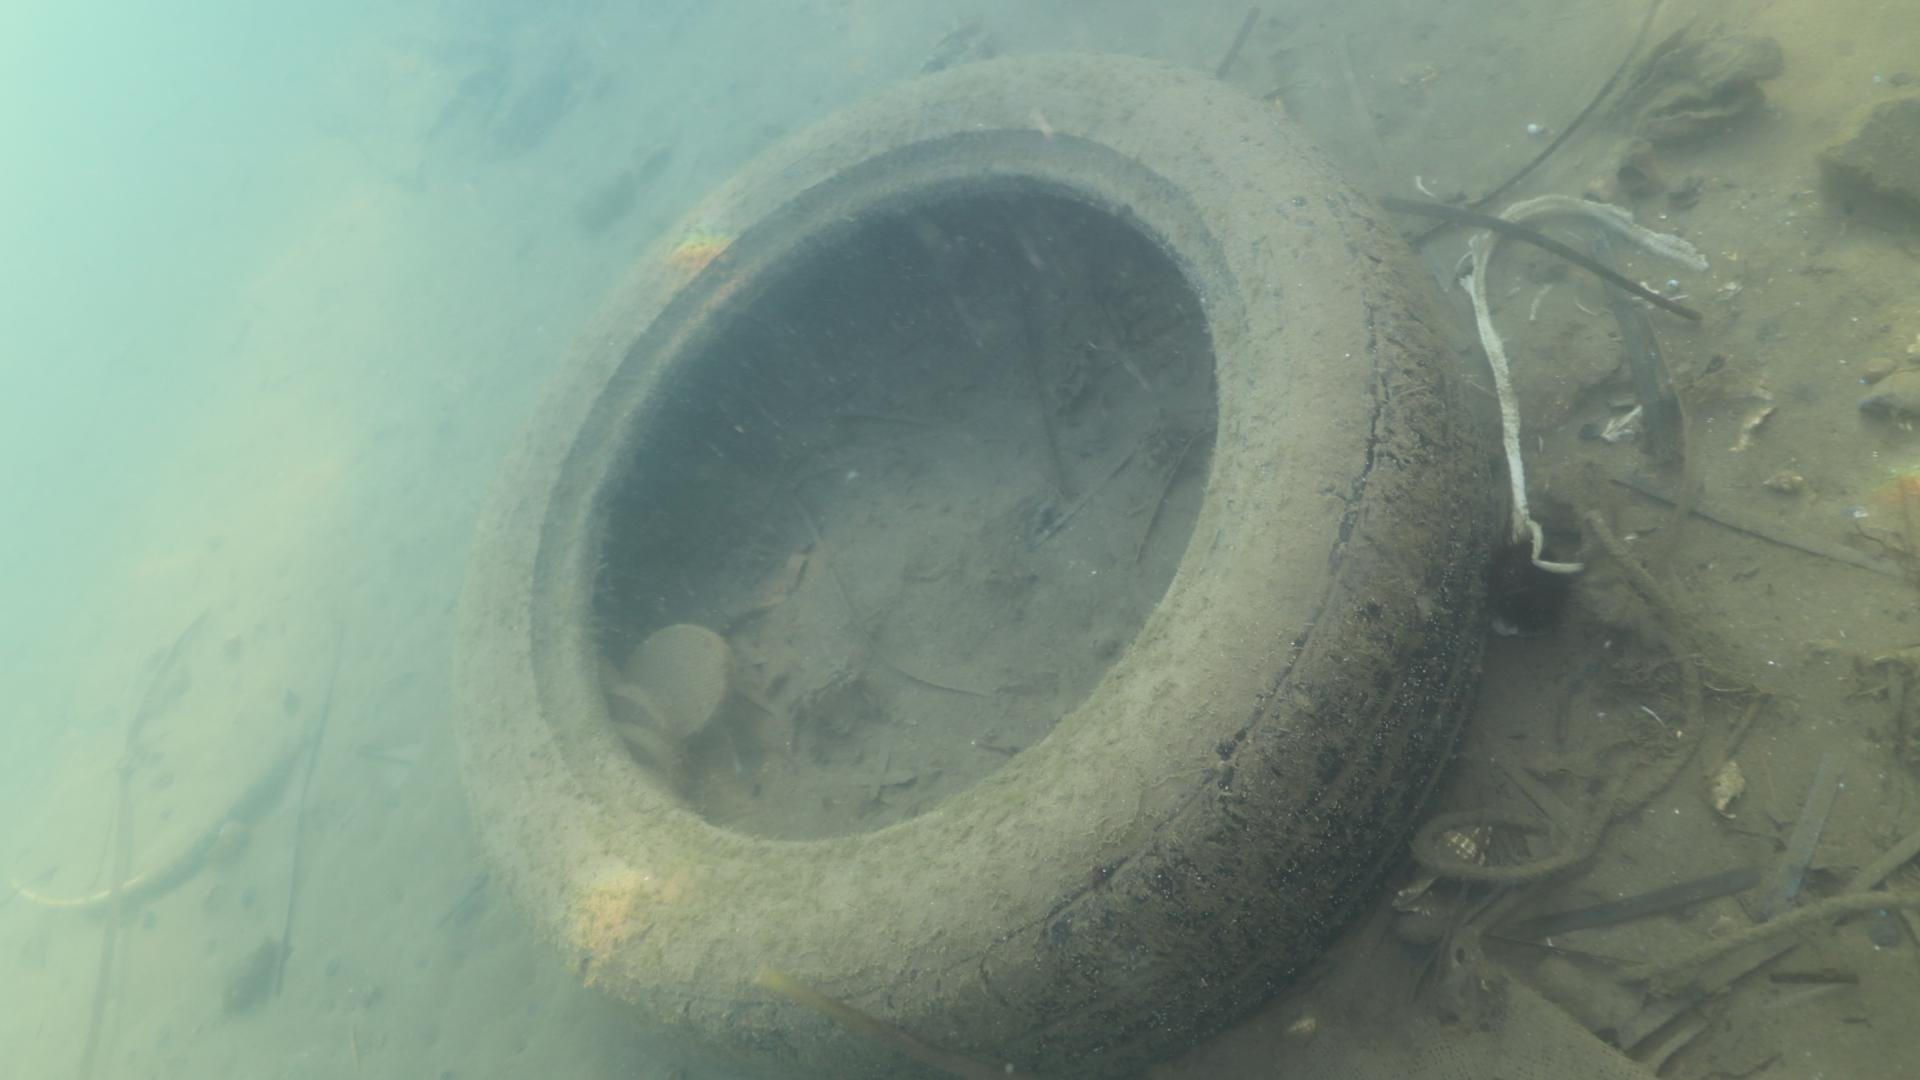bundle of ropes: (1406, 506, 1708, 887)
tire: (440, 47, 1513, 1080)
